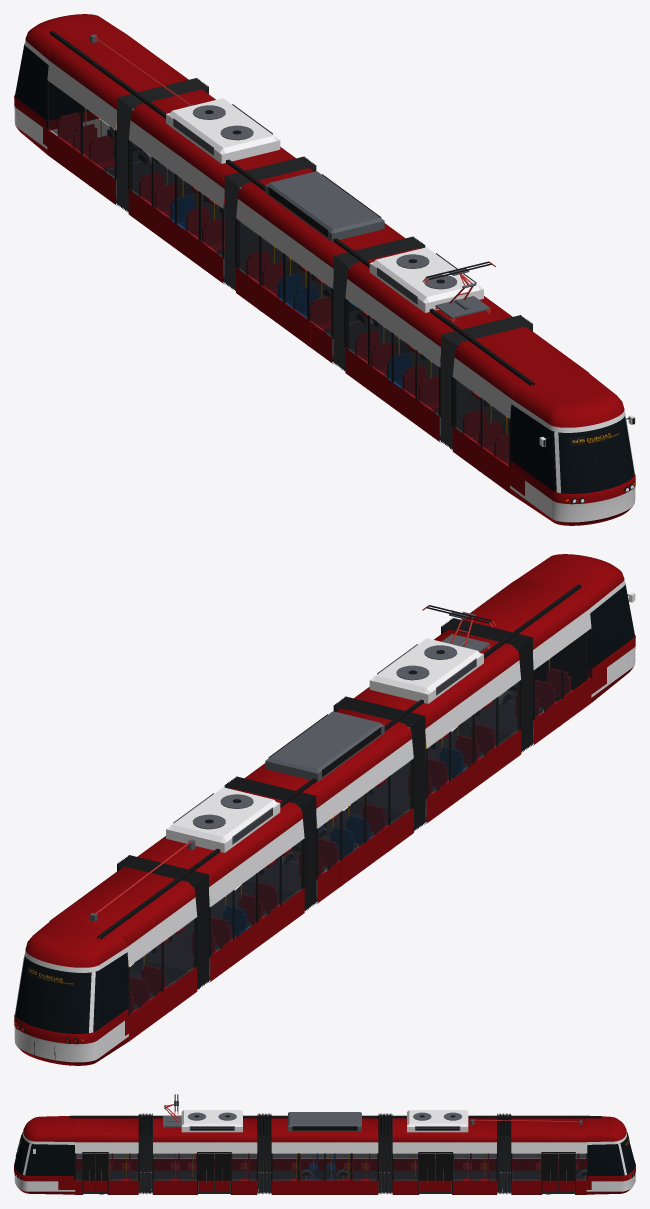
The model's file is flexity_outlook.obj.
3 views of the same model, one above another, from view 1: azimuth 30°, elevation 25°; view 2: azimuth 150°, elevation 25°; view 3: azimuth 270°, elevation 25° (orthographic). The views are drawn at different scales.
Parts seen in each view (by area): view 1: Mesh_mat_glass_tinted, Mesh_mat_ttc_white, Mesh_mat_ttc_red, Mesh_mat_bellows, Mesh_mat_interior_seats_red, Mesh_mat_roof_metal, Cab_front_17, Mesh_mat_ttc_black, Cab_front_0, RoofTrim_module_1, Mesh_mat_interior_floor, RoofTrim_module_5 (+9 smaller); view 2: Mesh_mat_glass_tinted, Mesh_mat_ttc_white, Mesh_mat_ttc_red, Mesh_mat_bellows, Mesh_mat_ttc_black, Mesh_mat_roof_metal, Mesh_mat_interior_seats_red, Mesh_mat_interior_floor, Cab_rear_17, RoofTrim_module_1, Cab_rear_0, RoofTrim_module_5 (+9 smaller); view 3: Mesh_mat_ttc_red, Mesh_mat_glass_tinted, Mesh_mat_ttc_white, Mesh_mat_ttc_black, Mesh_mat_bellows, Mesh_mat_roof_metal, Mesh_mat_interior_floor, RoofTrim_module_1, Cab_front_17, Cab_front_0, RoofTrim_module_2, RoofTrim_module_3 (+11 smaller).
Boxes of the visible parts, x1,y1,x2,y2 form: Mesh_mat_glass_tinted: (48, 82, 509, 464); Mesh_mat_ttc_white: (47, 60, 511, 418); Mesh_mat_ttc_red: (43, 126, 524, 495); Mesh_mat_bellows: (117, 78, 532, 449); Mesh_mat_interior_seats_red: (57, 112, 509, 466); Mesh_mat_roof_metal: (90, 34, 490, 318); Cab_front_17: (510, 404, 634, 493); Mesh_mat_ttc_black: (46, 31, 534, 468); Cab_front_0: (509, 368, 635, 525); RoofTrim_module_1: (49, 30, 188, 109); Mesh_mat_interior_floor: (108, 139, 510, 435); RoofTrim_module_5: (454, 326, 588, 398); Mesh_mat_glass_tinted: (129, 630, 589, 1012); Mesh_mat_ttc_white: (127, 609, 591, 966); Mesh_mat_ttc_red: (125, 666, 606, 1041); Mesh_mat_bellows: (117, 618, 532, 989); Mesh_mat_ttc_black: (97, 584, 592, 1016); Mesh_mat_roof_metal: (90, 611, 490, 921); Mesh_mat_interior_seats_red: (129, 668, 572, 1014); Mesh_mat_interior_floor: (130, 690, 557, 1009); Cab_rear_17: (15, 952, 128, 1033); RoofTrim_module_1: (49, 866, 195, 946); Cab_rear_0: (14, 916, 128, 1065); RoofTrim_module_5: (463, 578, 589, 649); Mesh_mat_ttc_red: (58, 1158, 591, 1194); Mesh_mat_glass_tinted: (76, 1153, 586, 1179); Mesh_mat_ttc_white: (75, 1110, 587, 1153); Mesh_mat_ttc_black: (69, 1094, 601, 1194); Mesh_mat_bellows: (95, 1113, 586, 1193); Mesh_mat_roof_metal: (89, 1101, 582, 1182); Mesh_mat_interior_floor: (76, 1170, 586, 1191); RoofTrim_module_1: (511, 1115, 587, 1142); Cab_front_17: (14, 1133, 74, 1175); Cab_front_0: (14, 1115, 75, 1194); RoofTrim_module_2: (392, 1115, 496, 1142); RoofTrim_module_3: (271, 1115, 378, 1142).
Size of the model in its own units: 2.89 by 4.61 by 30.36.
Materials: 18 (1 with a texture image).
